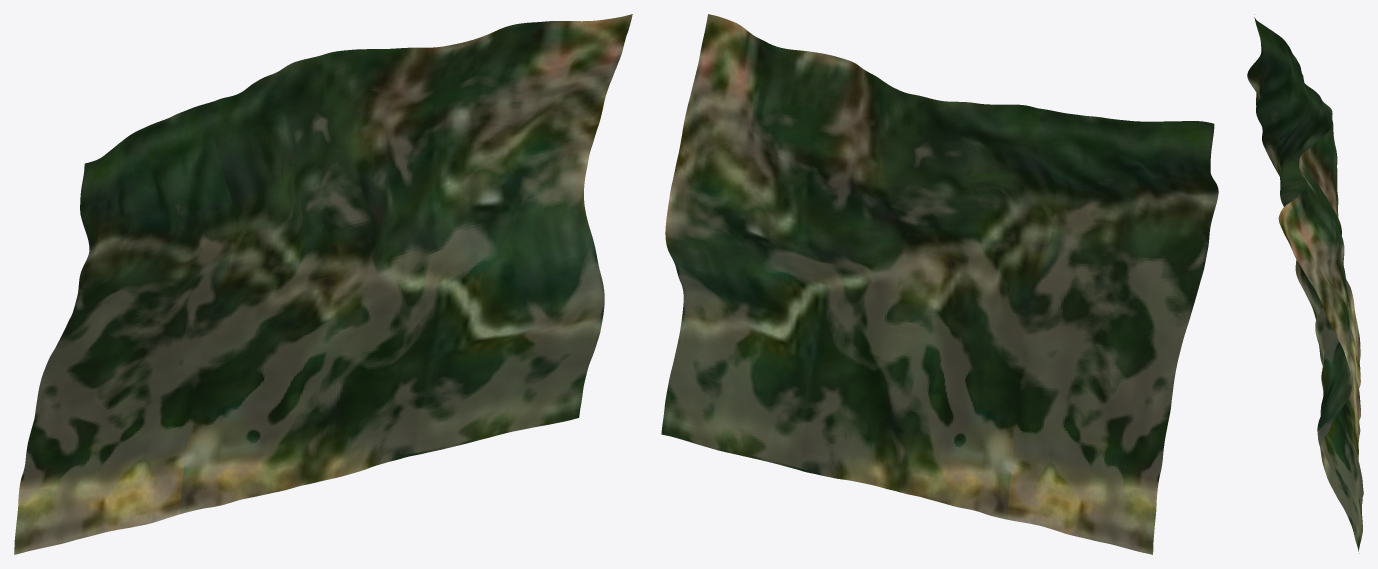
The model's file is qingyuan-hillside-v2.glb.
The picture shows the model from 3 angles, left to right: view 1: azimuth 30°, elevation 25°; view 2: azimuth 150°, elevation 25°; view 3: azimuth 270°, elevation 25°; orthographic projection. The views are drawn at different scales.
Parts seen in each view (by area): view 1: RealTerrain; view 2: RealTerrain; view 3: RealTerrain.
Part boxes in pixels (x1=…): RealTerrain: x1=14, y1=14, x2=632, y2=554; RealTerrain: x1=661, y1=14, x2=1218, y2=554; RealTerrain: x1=1247, y1=14, x2=1363, y2=553.
Size of the model in its own units: 1000 by 750 by 237.
1 material, 1 textured.
